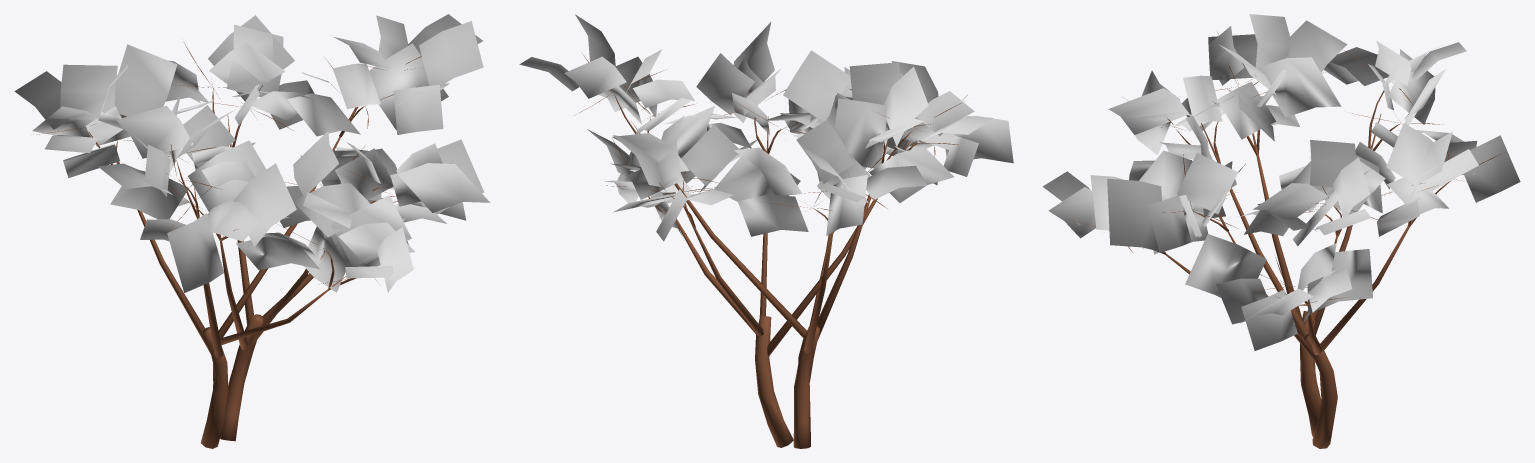
The model's file is V7_Arbousier_1_Niveau2.fbx.
3 views of the same model, side by side, from view 1: azimuth 30°, elevation 25°; view 2: azimuth 150°, elevation 25°; view 3: azimuth 270°, elevation 25° (orthographic). The views are drawn at different scales.
Parts seen in each view (by area): view 1: V7_Arbousier_1_Detail2; view 2: V7_Arbousier_1_Detail2; view 3: V7_Arbousier_1_Detail2.
Part boxes in pixels (x1,y1,x2,y2): V7_Arbousier_1_Detail2: [14, 14, 490, 448]; V7_Arbousier_1_Detail2: [519, 14, 1013, 448]; V7_Arbousier_1_Detail2: [1042, 14, 1520, 448].
Bounding box in the file's own units: 411 × 358 × 403.
